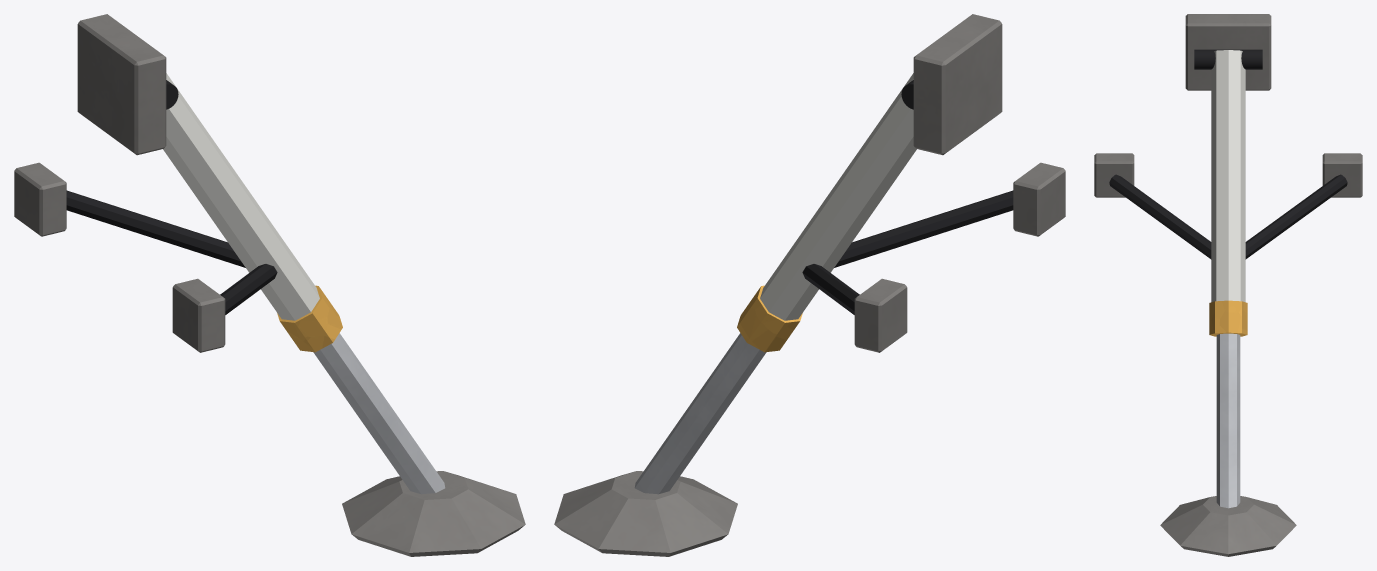
Rendered from ax_gear_04_lander_leg_m_deployed.glb.
The picture shows the model from 3 angles, left to right: view 1: azimuth 30°, elevation 25°; view 2: azimuth 150°, elevation 25°; view 3: azimuth 270°, elevation 25°; orthographic projection. The views are drawn at different scales.
Visible parts, largest first — view 1: leg_hinge_block, leg_footpad, leg_outer_tube, leg_inner_tube, leg_secondary_struts, leg_crush_band; view 2: leg_hinge_block, leg_footpad, leg_outer_tube, leg_inner_tube, leg_secondary_struts, leg_crush_band; view 3: leg_outer_tube, leg_hinge_block, leg_footpad, leg_inner_tube, leg_secondary_struts, leg_crush_band, leg_hinge_pin.
Part boxes in pixels (x1,y1,x2,y2): leg_hinge_block: [14, 14, 225, 352]; leg_footpad: [342, 471, 525, 556]; leg_outer_tube: [163, 73, 319, 320]; leg_inner_tube: [313, 333, 445, 494]; leg_secondary_struts: [66, 190, 277, 314]; leg_crush_band: [277, 285, 342, 352]; leg_hinge_block: [854, 14, 1065, 352]; leg_footpad: [554, 471, 737, 556]; leg_outer_tube: [760, 73, 916, 320]; leg_inner_tube: [634, 333, 766, 494]; leg_secondary_struts: [802, 190, 1013, 314]; leg_crush_band: [737, 285, 802, 352]; leg_outer_tube: [1211, 50, 1245, 302]; leg_hinge_block: [1094, 14, 1362, 197]; leg_footpad: [1160, 496, 1296, 556]; leg_inner_tube: [1216, 333, 1240, 508]; leg_secondary_struts: [1109, 174, 1347, 259]; leg_crush_band: [1209, 300, 1247, 336]; leg_hinge_pin: [1194, 49, 1262, 69].
Bounding box in the file's own units: 1.79 × 2.34 × 1.41.
5 materials, 3 textured.
